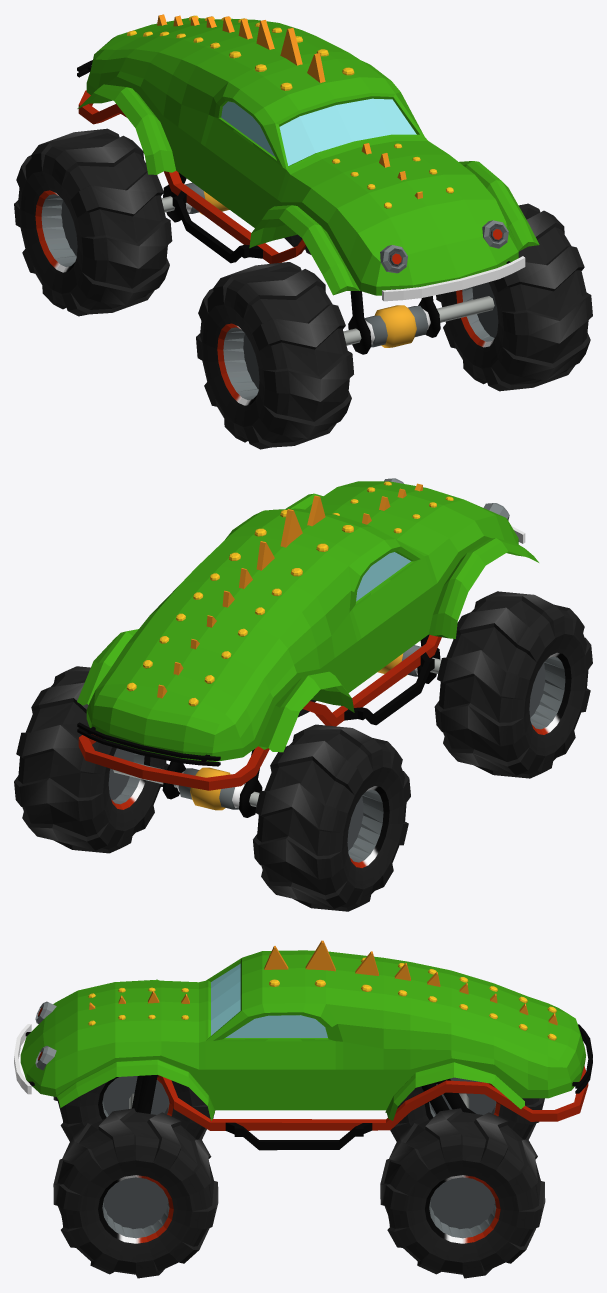
The model's file is Dinosaur.fbx.
3 views of the same model, one above another, from view 1: azimuth 30°, elevation 25°; view 2: azimuth 150°, elevation 25°; view 3: azimuth 270°, elevation 25° (orthographic). The views are drawn at different scales.
Parts seen in each view (by area): view 1: Monster_Truck_Body, Wheel_FR, Wheel_RR, Wheel_FL, Monster_Truck_Livery, Axel Front, Axel Back; view 2: Monster_Truck_Body, Wheel_RR, Wheel_FR, Wheel_RL, Monster_Truck_Livery, Axel Back, Axel Front; view 3: Monster_Truck_Body, Wheel_FL, Wheel_RL, Monster_Truck_Livery, Wheel_FR, Wheel_RR, Axel Front, Axel Back.
Boxes of the visible parts, x1,y1,x2,y2 form: Monster_Truck_Body: [77, 18, 539, 295]; Wheel_FR: [196, 262, 353, 449]; Wheel_RR: [14, 128, 172, 316]; Wheel_FL: [436, 203, 592, 391]; Monster_Truck_Livery: [77, 14, 525, 301]; Axel Front: [343, 291, 494, 354]; Axel Back: [161, 172, 229, 222]; Monster_Truck_Body: [77, 481, 538, 790]; Wheel_RR: [253, 724, 410, 911]; Wheel_FR: [434, 591, 592, 778]; Wheel_RL: [14, 666, 168, 853]; Monster_Truck_Livery: [77, 478, 525, 766]; Axel Back: [113, 749, 262, 817]; Axel Front: [377, 634, 441, 683]; Monster_Truck_Body: [20, 950, 588, 1150]; Wheel_FL: [53, 1108, 218, 1278]; Wheel_RL: [380, 1108, 545, 1278]; Monster_Truck_Livery: [14, 940, 592, 1094]; Wheel_FR: [53, 1075, 215, 1141]; Wheel_RR: [390, 1077, 544, 1141]; Axel Front: [129, 1075, 157, 1113]; Axel Back: [421, 1078, 475, 1114].
Bounding box in the file's own units: 485 × 439 × 842.
